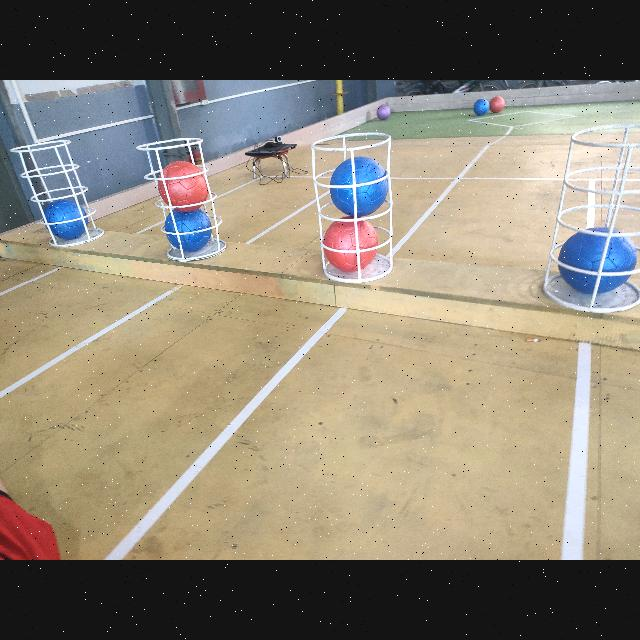B: (556, 226, 638, 294), (328, 155, 390, 219), (164, 204, 212, 252), (42, 200, 88, 240), (474, 99, 488, 115)
R: (322, 216, 378, 272), (156, 162, 208, 212), (490, 96, 504, 112)
